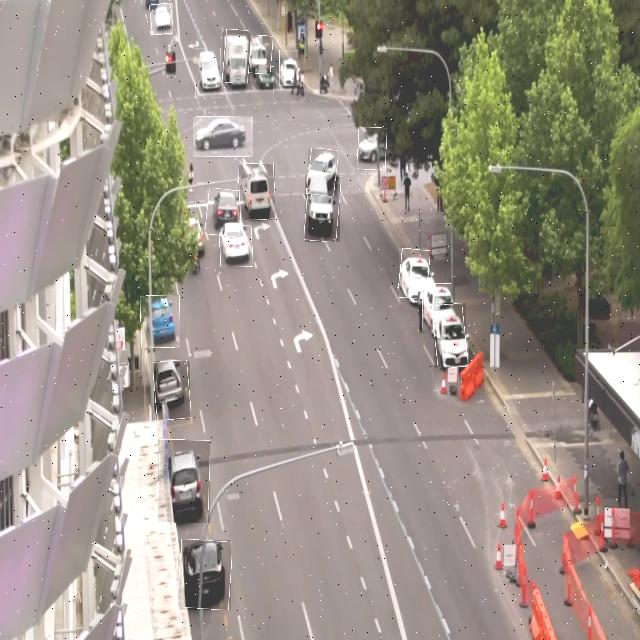Car: (158, 440, 210, 523), (178, 540, 231, 610), (194, 117, 254, 157), (305, 175, 340, 242), (154, 361, 190, 420), (434, 303, 466, 368), (238, 164, 275, 220), (141, 296, 180, 348), (206, 190, 242, 236), (422, 283, 451, 336), (399, 248, 429, 299), (223, 30, 250, 83), (308, 149, 337, 196), (220, 226, 252, 267), (195, 48, 221, 98), (358, 128, 386, 170), (249, 36, 272, 74), (150, 3, 173, 35), (279, 50, 298, 86), (256, 66, 274, 93)
